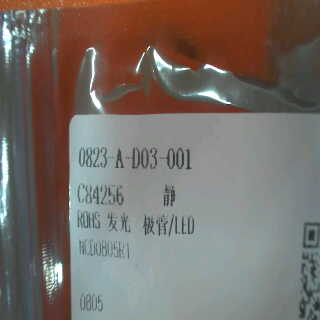LED: (105, 211, 202, 238)
